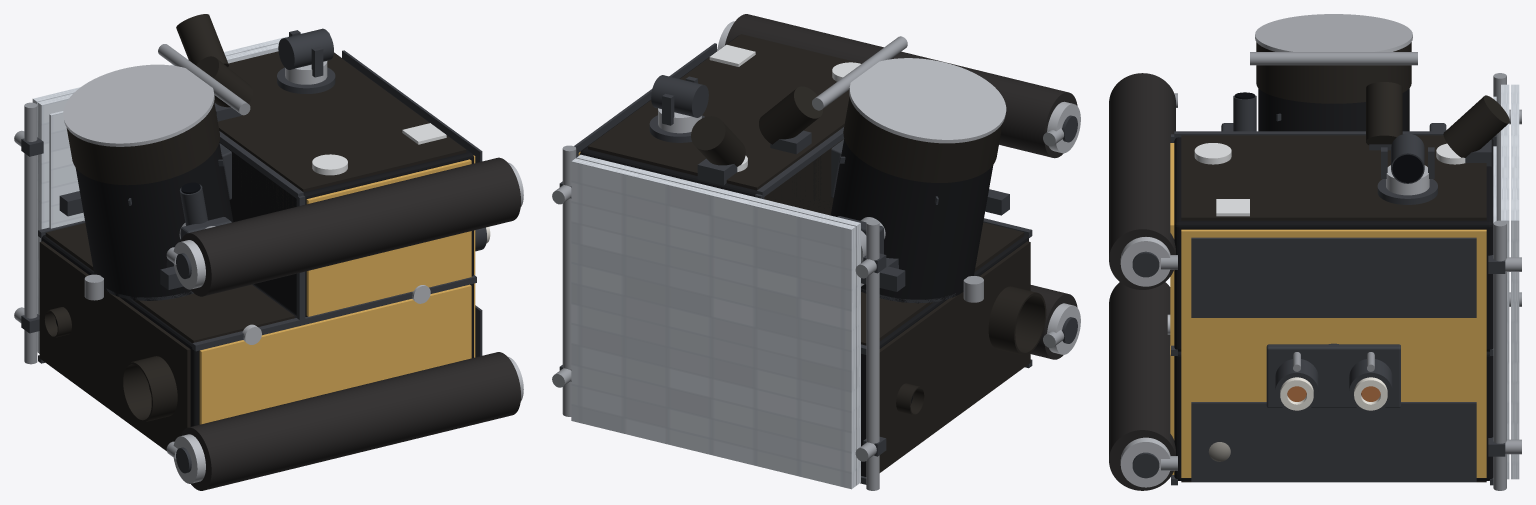
File: shepherd-1-stowed.glb
3 renders of one model, left to right at view 1: azimuth 30°, elevation 25°; view 2: azimuth 150°, elevation 25°; view 3: azimuth 270°, elevation 25°, orthographic. The views are drawn at different scales.
Visible parts, largest first — view 1: solar_arrays:zenith wing roll, solar_arrays:nadir wing roll, bus:sun-face MLI lower, bus:zenith MLI, bus:aft-face MLI, beam_director:telescope tube, beam_director:aperture door, bus:sun-face MLI upper, bus:cradle floor MLI, beam_director:front baffle, bus:upper deck, radiators:aft-side radiator hinge (+21 smaller); view 2: radiators:aft-side radiator panel stowed, bus:aft-face MLI, bus:zenith MLI, beam_director:telescope tube, beam_director:aperture door, solar_arrays:zenith wing roll, beam_director:front baffle, radiators:aft-side radiator hinge, tracking:acquisition baffle, radiators:ram-side radiator panel stowed, bus:cradle floor MLI, radiators:ram-side radiator hinge (+18 smaller); view 3: bus:ram-face MLI, bus:ram bumper upper, bus:ram bumper lower, bus:zenith MLI, solar_arrays:zenith wing roll, solar_arrays:nadir wing roll, bus:upper deck, beam_director:aperture door, beam_director:front baffle, propulsion:thruster plate, beam_director:telescope tube, radiators:ram-side radiator hinge (+24 smaller).
Boxes of the visible parts, box(x1,y1,x2,y2) form: solar_arrays:zenith wing roll: box(180, 157, 520, 296); solar_arrays:nadir wing roll: box(181, 352, 520, 490); bus:sun-face MLI lower: box(199, 284, 471, 424); bus:zenith MLI: box(218, 51, 466, 192); bus:aft-face MLI: box(39, 241, 190, 450); beam_director:telescope tube: box(75, 143, 233, 300); beam_director:aperture door: box(63, 64, 214, 146); bus:sun-face MLI upper: box(306, 159, 471, 316); bus:cradle floor MLI: box(45, 223, 294, 343); beam_director:front baffle: box(66, 102, 219, 185); bus:upper deck: box(219, 52, 473, 316); radiators:aft-side radiator hinge: box(24, 102, 37, 364); radiators:aft-side radiator panel stowed: box(571, 158, 855, 489); bus:aft-face MLI: box(879, 241, 1030, 472); bus:zenith MLI: box(588, 34, 861, 190); beam_director:telescope tube: box(830, 139, 993, 303); beam_director:aperture door: box(849, 58, 1006, 143); solar_arrays:zenith wing roll: box(725, 14, 1077, 158); beam_director:front baffle: box(843, 97, 1002, 182); radiators:aft-side radiator hinge: box(866, 219, 879, 490); tracking:acquisition baffle: box(988, 286, 1046, 355); radiators:ram-side radiator panel stowed: box(576, 154, 860, 485); bus:cradle floor MLI: box(861, 222, 1024, 345); radiators:ram-side radiator hinge: box(562, 145, 576, 416); bus:ram-face MLI: box(1181, 229, 1486, 477); bus:ram bumper upper: box(1191, 237, 1476, 317); bus:ram bumper lower: box(1191, 402, 1476, 482); bus:zenith MLI: box(1181, 135, 1486, 220); solar_arrays:zenith wing roll: box(1109, 73, 1175, 289); solar_arrays:nadir wing roll: box(1109, 282, 1175, 490); bus:upper deck: box(1174, 137, 1493, 351); beam_director:aperture door: box(1255, 14, 1412, 51); beam_director:front baffle: box(1256, 42, 1411, 103); propulsion:thruster plate: box(1266, 344, 1400, 407); beam_director:telescope tube: box(1258, 88, 1409, 131); radiators:ram-side radiator hinge: box(1493, 220, 1506, 490).
Bounding box in the file's own units: 1.39 × 1.16 × 1.23.
Materials: 16 (1 with a texture image).
